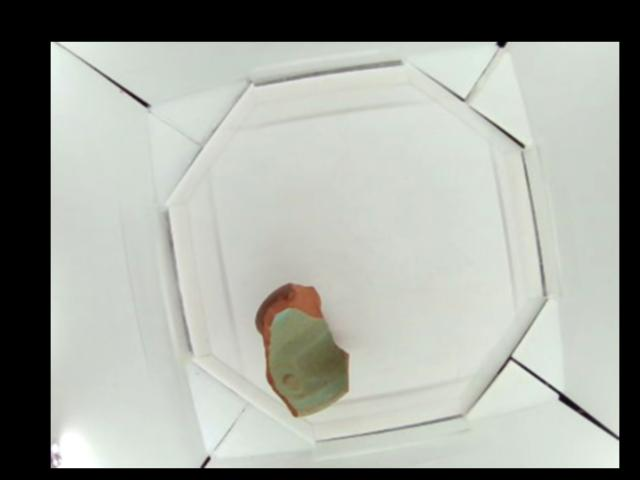China: (250, 280, 350, 419)
